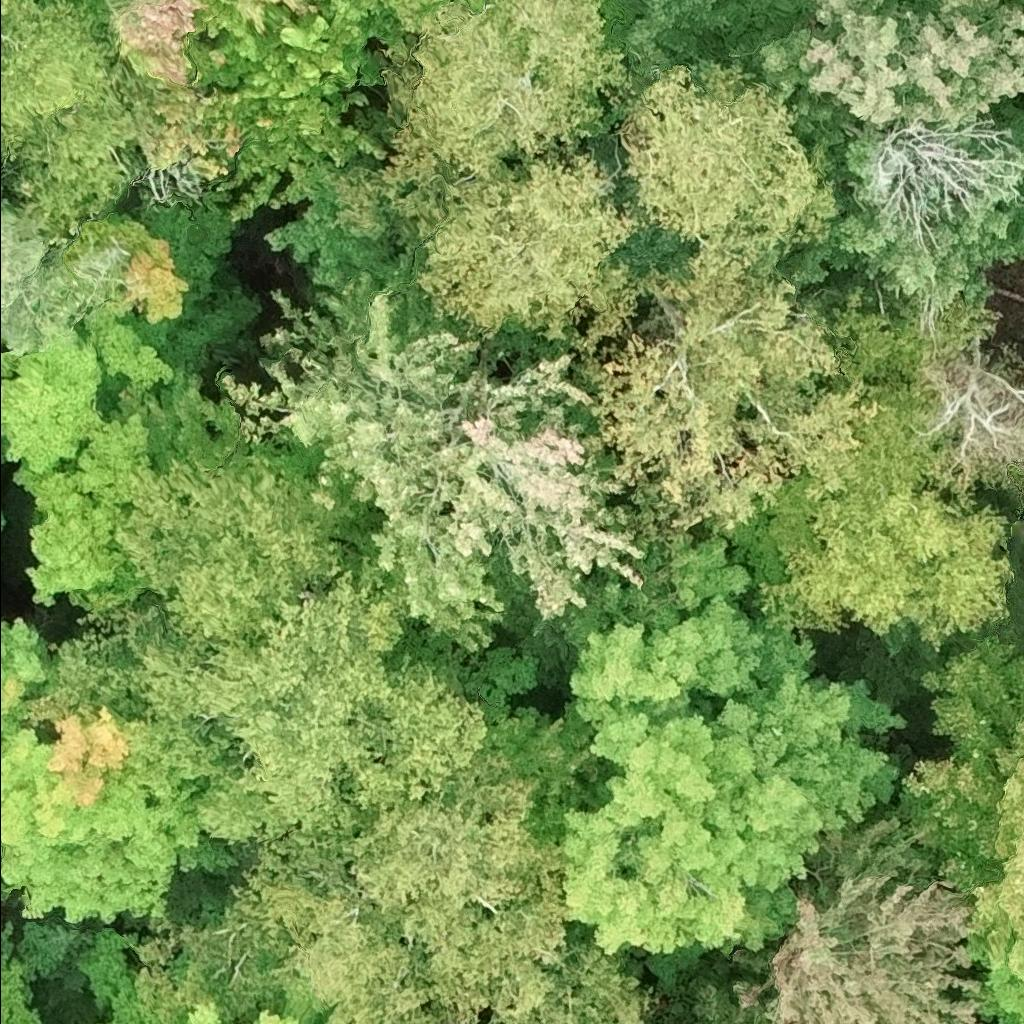crown: (217, 265, 653, 657), (553, 612, 911, 956), (119, 559, 488, 851), (580, 246, 877, 535), (331, 0, 640, 250), (0, 187, 260, 476), (750, 378, 1018, 651), (0, 624, 241, 923), (321, 751, 579, 1023), (76, 0, 410, 194), (723, 806, 995, 1023), (409, 149, 679, 356), (11, 369, 239, 606), (175, 835, 441, 1023), (709, 0, 1023, 156), (114, 444, 359, 640), (619, 57, 840, 272), (893, 631, 1023, 984), (561, 533, 767, 717), (0, 0, 142, 249), (0, 177, 128, 357), (480, 704, 602, 838), (504, 923, 661, 1023), (965, 931, 1023, 1023), (159, 993, 328, 1023), (0, 919, 46, 1023), (687, 985, 767, 1023), (375, 0, 441, 40), (0, 436, 7, 465), (0, 505, 6, 536), (469, 0, 482, 8), (480, 1019, 492, 1023)
